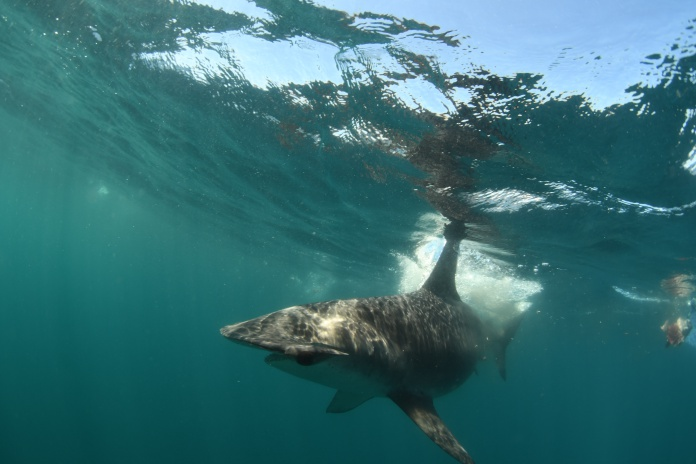Hammer: (219, 230, 536, 464)
